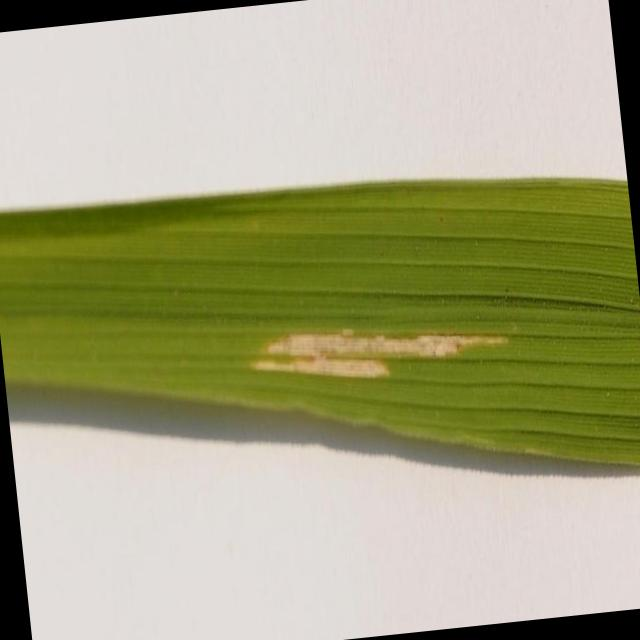Rice_Bacterial_Blight: (234, 261, 539, 438)
